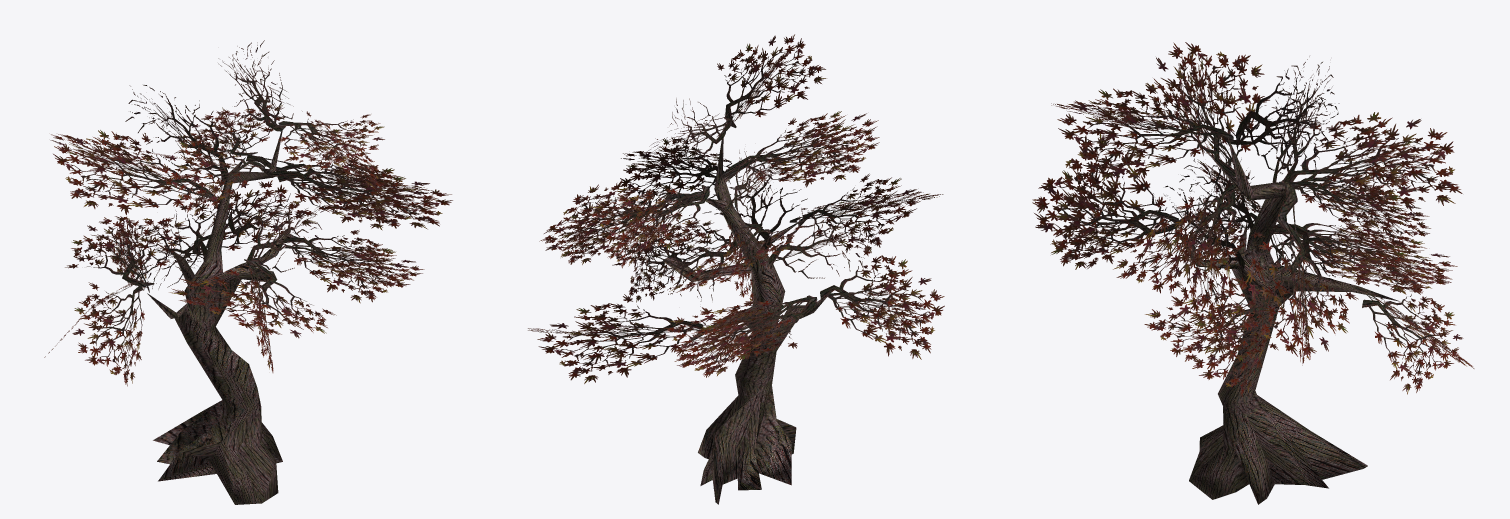
Rendered from decd_dath_blacktree_a1_l1.fbx.
3 views of the same model, side by side, from view 1: azimuth 30°, elevation 25°; view 2: azimuth 150°, elevation 25°; view 3: azimuth 270°, elevation 25° (orthographic). The views are drawn at different scales.
Visible parts, largest first — view 1: mesh_node; view 2: mesh_node; view 3: mesh_node.
Boxes of the visible parts, box(x1,y1,x2,y2) form: mesh_node: box(44, 40, 452, 504); mesh_node: box(528, 34, 944, 504); mesh_node: box(1032, 42, 1474, 504).
Size of the model in its own units: 16.16 by 15.32 by 15.56.
